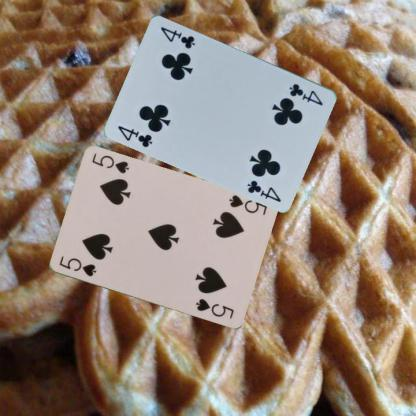4c: (286, 80, 324, 107), (116, 122, 154, 148)
5s: (226, 192, 268, 217), (56, 254, 98, 278)
